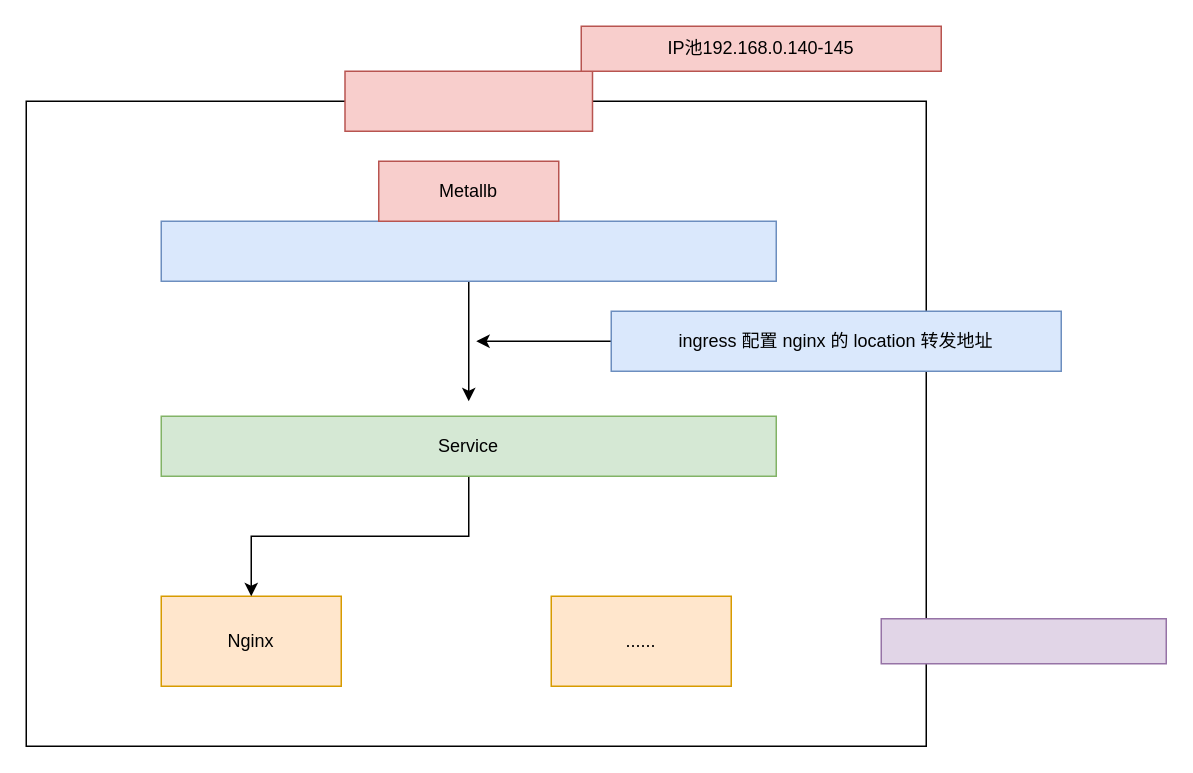
Image size: 1193x773. Some labels were removed from this diagram. Each missing label, with the box of its shape:
Ingress-nginx-controller (其 service 默认是 LoadBalancer): (160, 220, 776, 281)
提供 出口 EXTERNAL-IP: (344, 70, 592, 131)
虚机的IP池是 192.168.0.140-145: (880, 617, 1166, 664)
